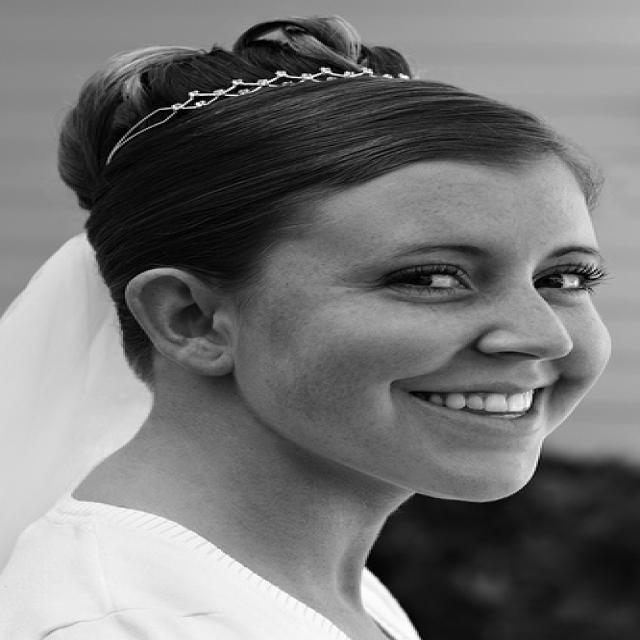person: (3, 15, 614, 640)
